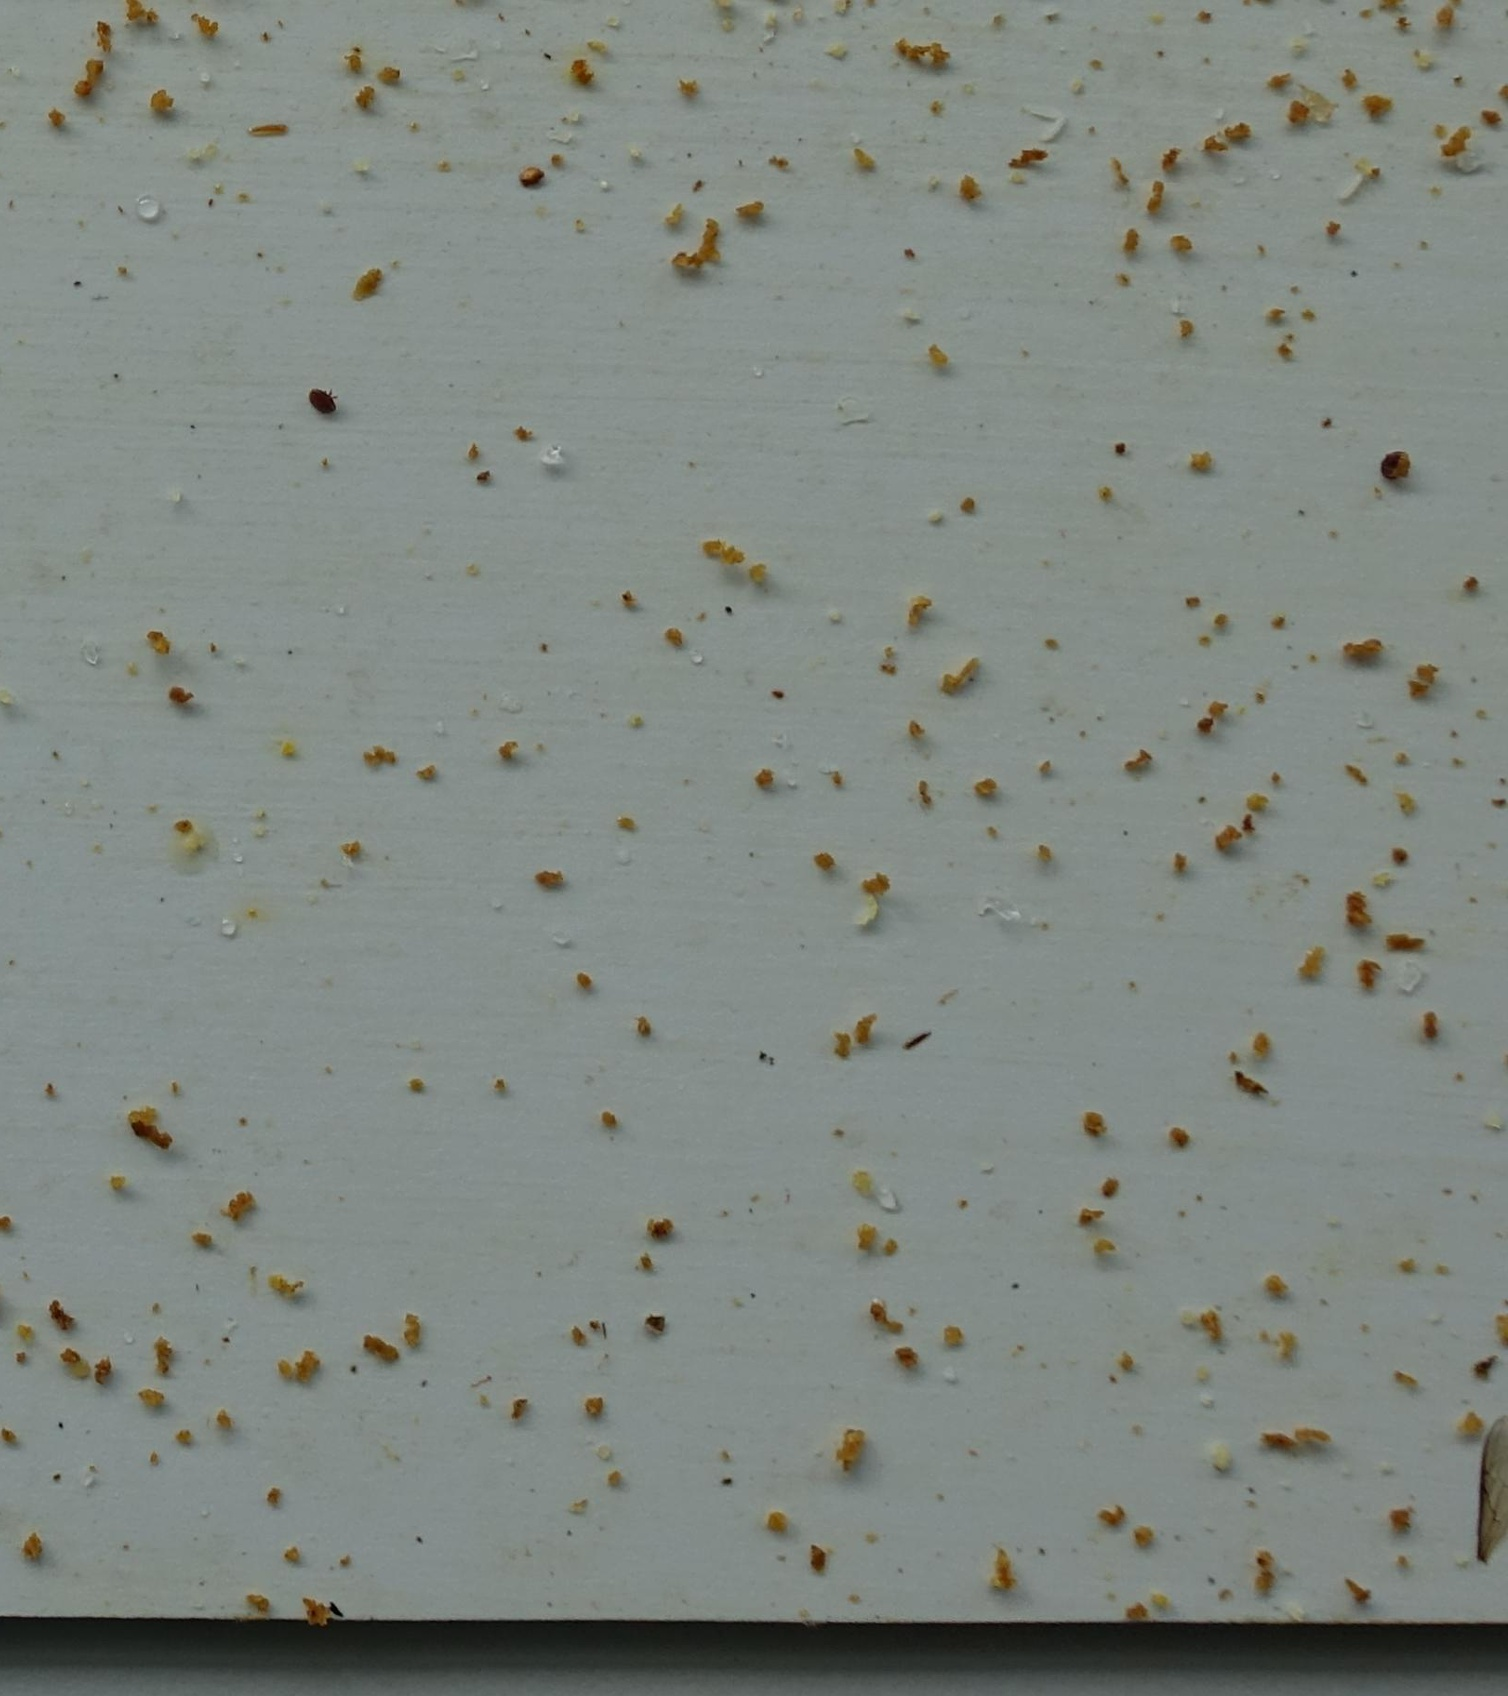Varroa: (1383, 450, 1406, 478), (310, 389, 333, 411)
